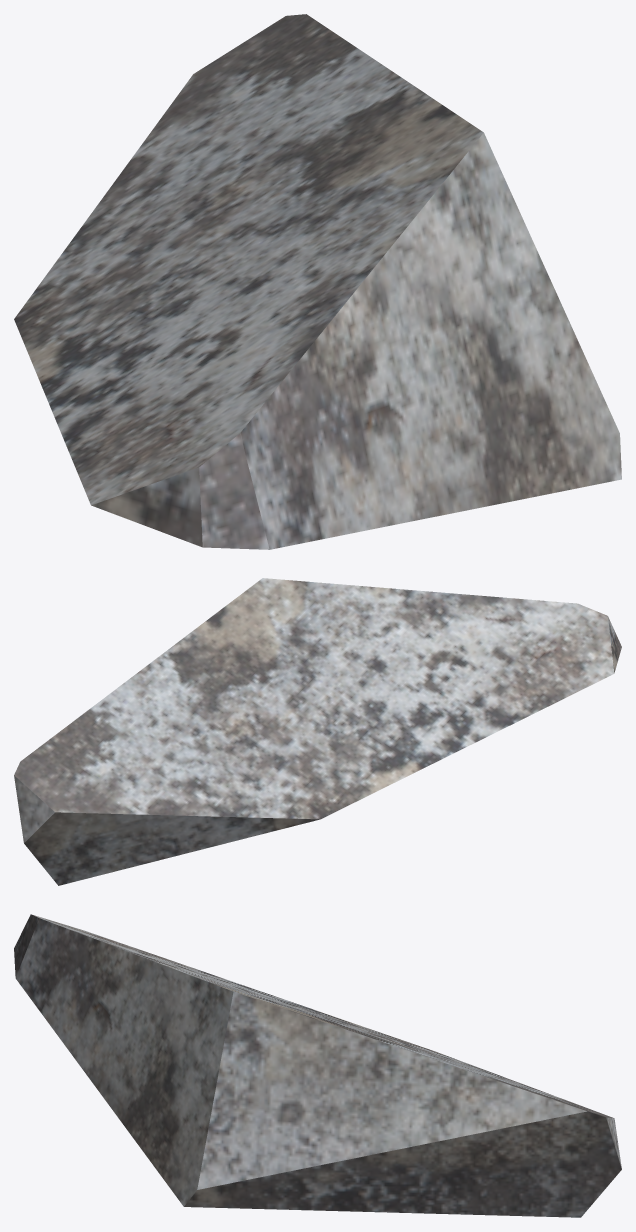
The model's file is Asteroid_Large_001_02_009_03_033.fbx.
The picture shows the model from 3 angles, top to bottom: view 1: azimuth 30°, elevation 25°; view 2: azimuth 150°, elevation 25°; view 3: azimuth 270°, elevation 25°; orthographic projection. The views are drawn at different scales.
Parts seen in each view (by area): view 1: Asteroid_Large_001_02_009_03_033; view 2: Asteroid_Large_001_02_009_03_033; view 3: Asteroid_Large_001_02_009_03_033.
Part boxes in pixels (box(x1,y1,x2,y2)): Asteroid_Large_001_02_009_03_033: box(14, 14, 621, 549); Asteroid_Large_001_02_009_03_033: box(14, 578, 621, 885); Asteroid_Large_001_02_009_03_033: box(14, 914, 621, 1217).
Size of the model in its own units: 7.56 by 4 by 10.69.
